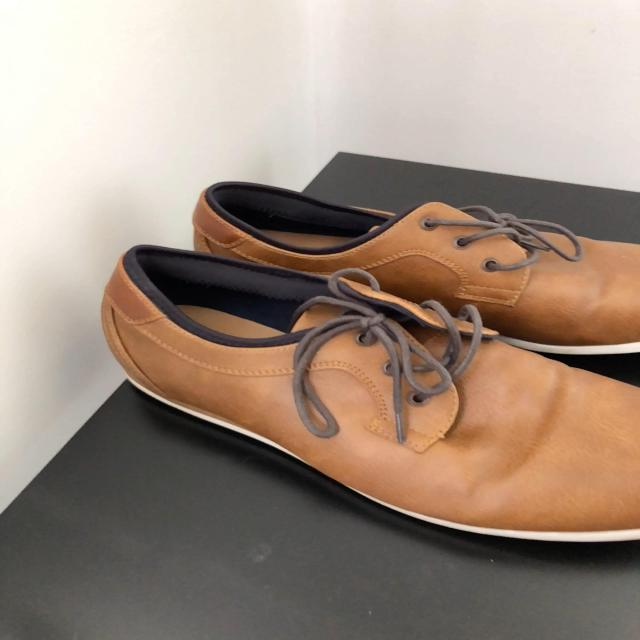shoe: (100, 207, 640, 540), (192, 185, 640, 345)
